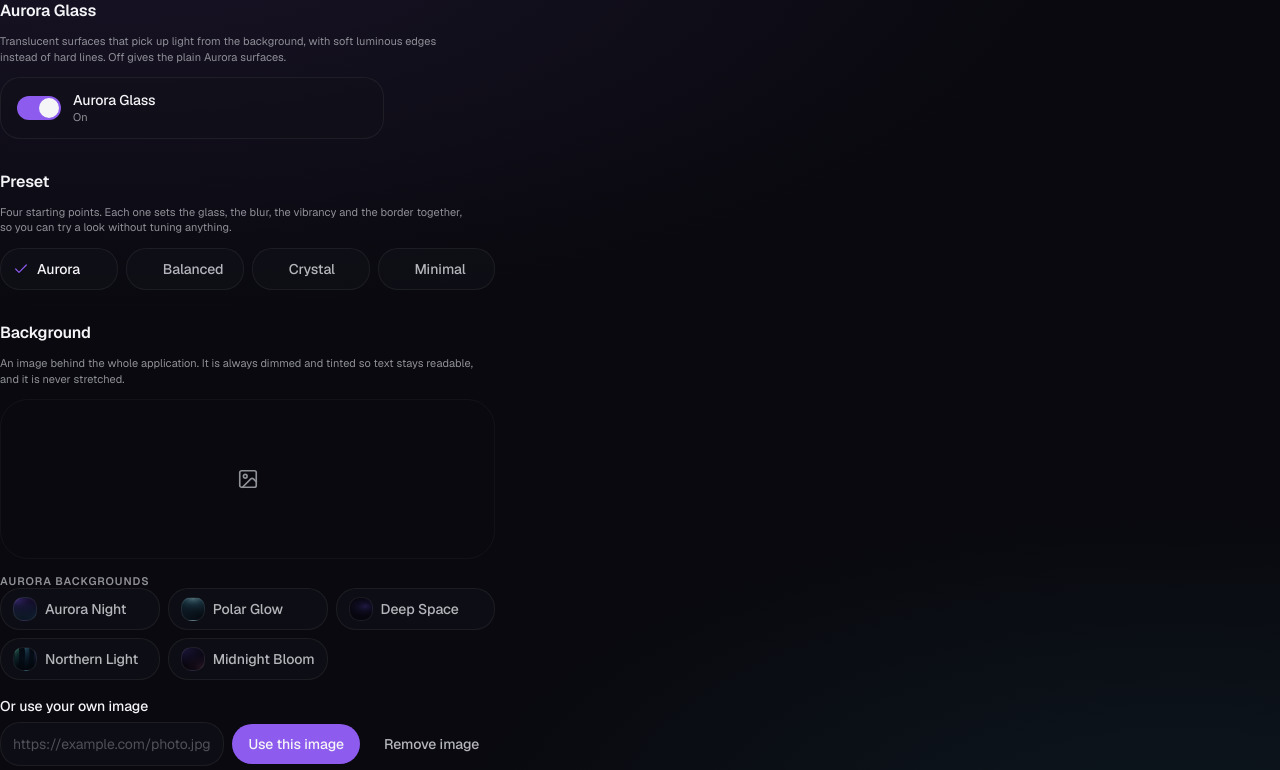
Test: the background URL field › refuses an image too small to work as a background
Type "https://img.test/icon.png" into the field with test id "background-url" at (112,744), box [0,722,224,766]
Then press Enter
(page scrolled)
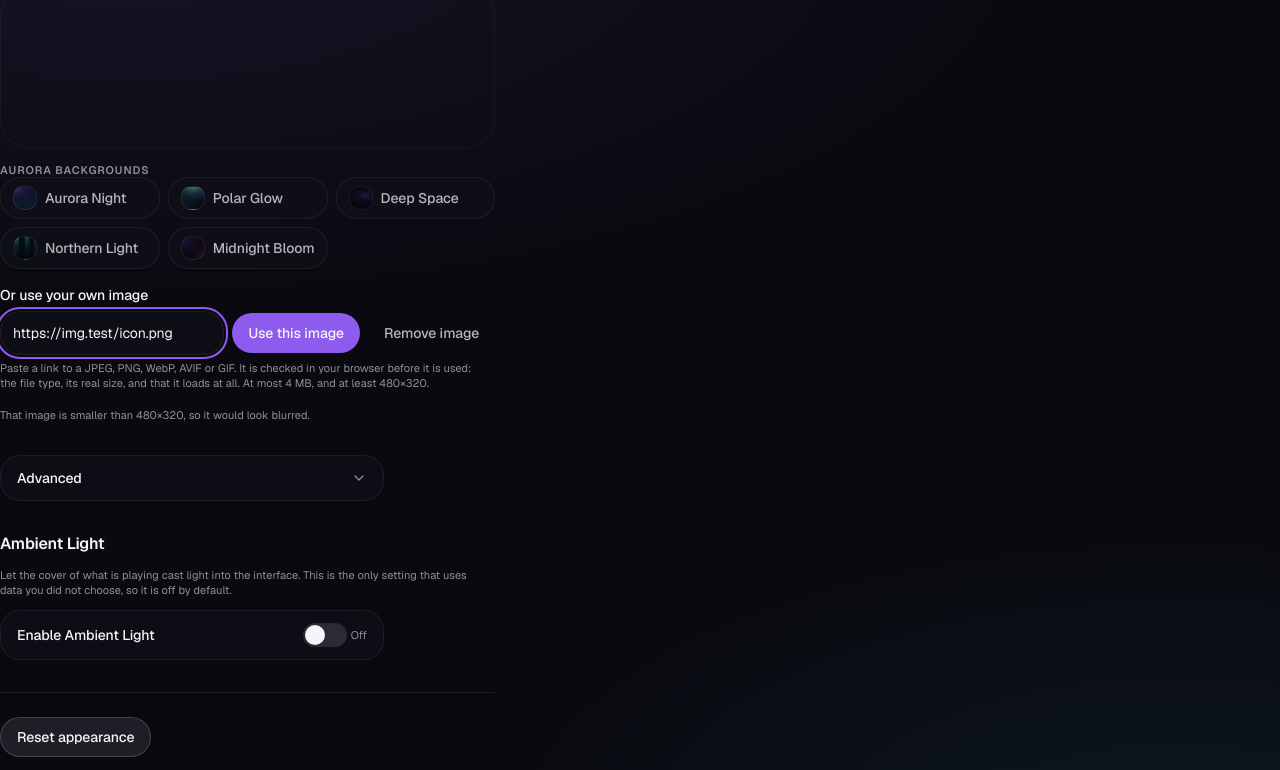
Expected: the message with test id "background-error" shows "480", [0,408,310,422]
